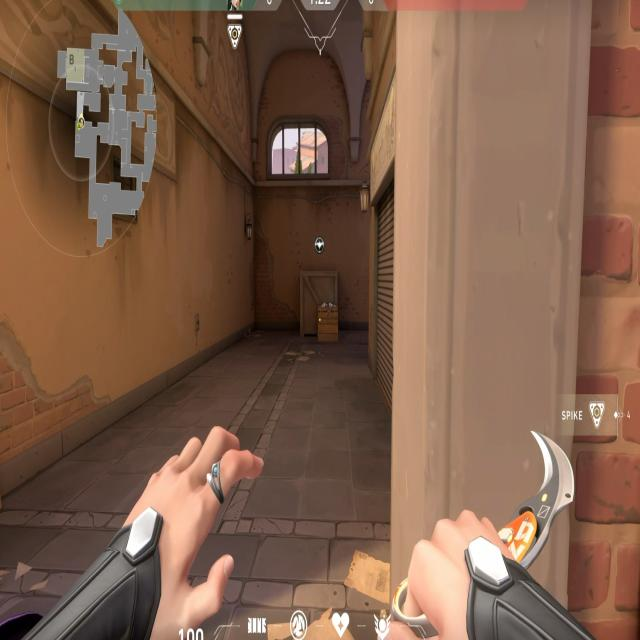B_Main_Wallbang: (294, 225, 347, 353)
Throwables: (265, 106, 334, 194)
